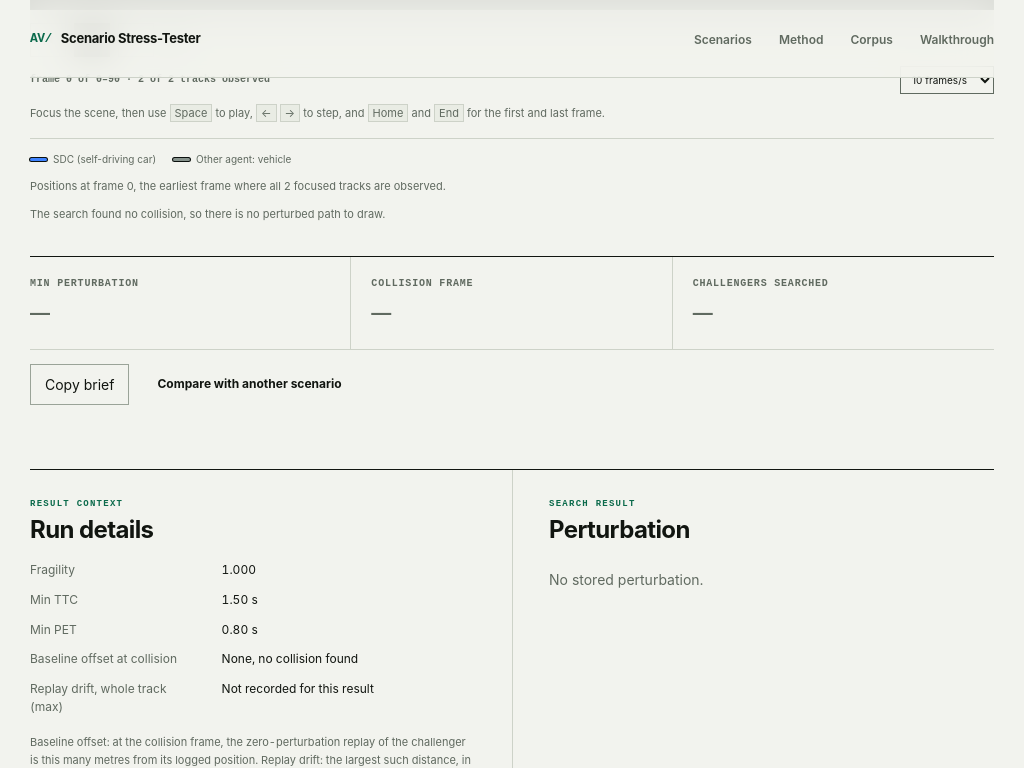
Test case: when the copy does not happen › shows the box for a scenario with no collision as well
This screenshot has width=1024, height=768.
(page scrolled)
Expected: the text "frame 0 of 0–90 · 2 of 2 tracks observed" is shown, [30,72,270,87]
Step 1. Click the button "Copy brief" → click(80, 384), box [30,364,130,405]
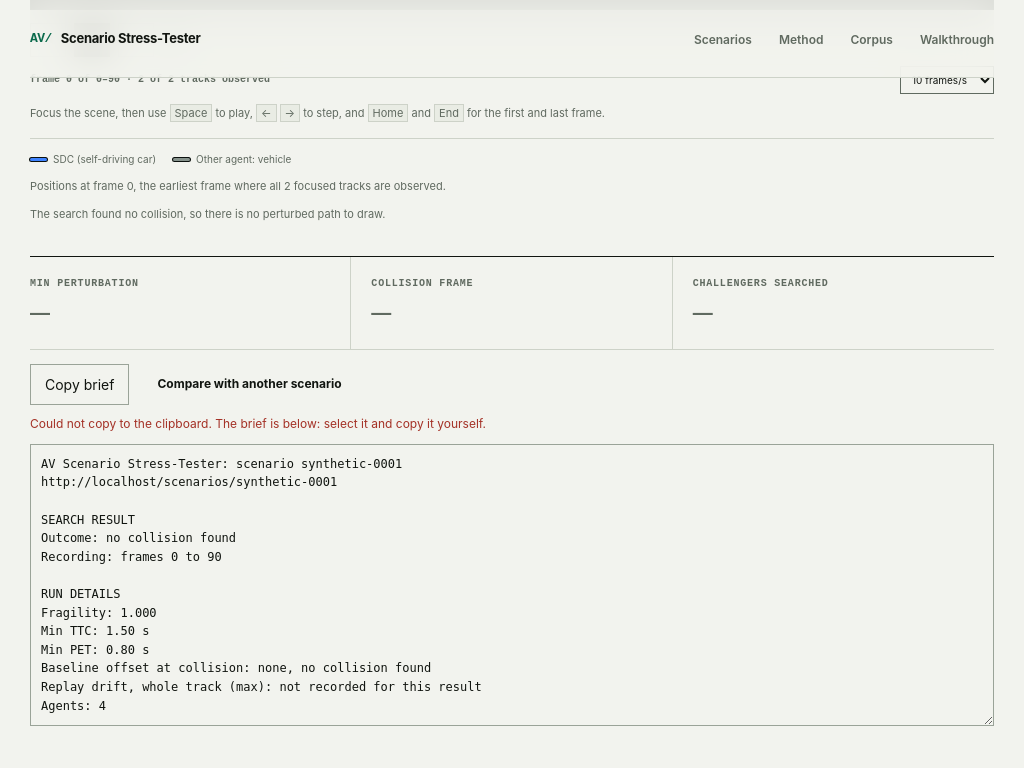
Now the message is shown, box [30,416,486,431]
